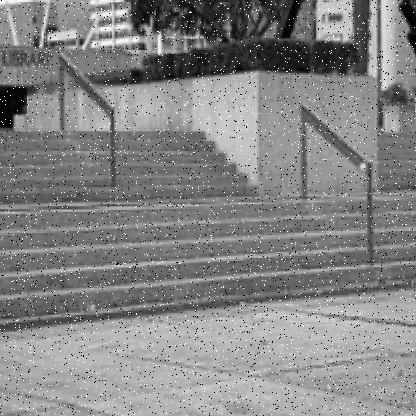stair_up: (22, 195, 274, 315)
